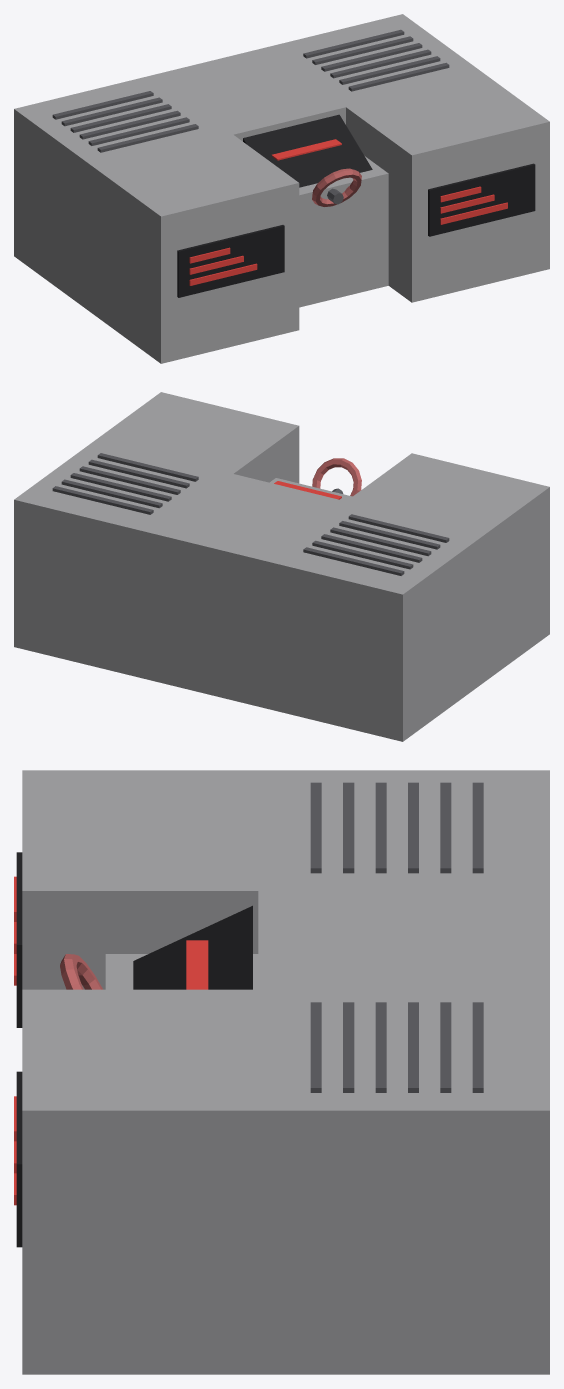
File: vge_e_pilot_console.obj
The picture shows the model from 3 angles, top to bottom: view 1: azimuth 30°, elevation 25°; view 2: azimuth 150°, elevation 25°; view 3: azimuth 270°, elevation 25°; orthographic projection. The views are drawn at different scales.
Parts seen in each view (by area): view 1: vge_pilot_console_0, vge_pilot_console_11, vge_pilot_console_22, vge_pilot_console_23, vge_pilot_console_24, vge_pilot_console_18, vge_pilot_console_7, vge_pilot_console_27, vge_pilot_console_4, vge_pilot_console_14, vge_pilot_console_15, vge_pilot_console_17 (+11 smaller); view 2: vge_pilot_console_0, vge_pilot_console_11, vge_pilot_console_22, vge_pilot_console_23, vge_pilot_console_27, vge_pilot_console_1, vge_pilot_console_5, vge_pilot_console_12, vge_pilot_console_16, vge_pilot_console_3, vge_pilot_console_4, vge_pilot_console_6 (+5 smaller); view 3: vge_pilot_console_11, vge_pilot_console_0, vge_pilot_console_23, vge_pilot_console_24, vge_pilot_console_22, vge_pilot_console_18, vge_pilot_console_7, vge_pilot_console_25, vge_pilot_console_1, vge_pilot_console_2, vge_pilot_console_3, vge_pilot_console_5 (+9 smaller).
Boxes of the visible parts, x1,y1,x2,y2 form: vge_pilot_console_0: [14, 75, 299, 363]; vge_pilot_console_11: [265, 14, 549, 302]; vge_pilot_console_22: [299, 156, 388, 307]; vge_pilot_console_23: [152, 47, 345, 141]; vge_pilot_console_24: [243, 114, 372, 187]; vge_pilot_console_18: [428, 163, 535, 236]; vge_pilot_console_7: [177, 225, 284, 297]; vge_pilot_console_27: [312, 168, 361, 206]; vge_pilot_console_4: [70, 104, 171, 132]; vge_pilot_console_14: [330, 49, 431, 78]; vge_pilot_console_15: [321, 43, 422, 71]; vge_pilot_console_17: [303, 29, 404, 58]; vge_pilot_console_0: [264, 453, 549, 741]; vge_pilot_console_11: [14, 392, 299, 680]; vge_pilot_console_22: [152, 478, 352, 707]; vge_pilot_console_23: [152, 474, 345, 595]; vge_pilot_console_27: [312, 458, 361, 496]; vge_pilot_console_1: [348, 514, 449, 542]; vge_pilot_console_5: [312, 540, 413, 569]; vge_pilot_console_12: [97, 453, 198, 481]; vge_pilot_console_16: [61, 479, 162, 508]; vge_pilot_console_3: [330, 527, 431, 556]; vge_pilot_console_4: [321, 534, 422, 562]; vge_pilot_console_6: [303, 547, 404, 575]; vge_pilot_console_11: [22, 989, 549, 1374]; vge_pilot_console_0: [22, 770, 549, 989]; vge_pilot_console_23: [258, 891, 549, 989]; vge_pilot_console_24: [133, 905, 252, 989]; vge_pilot_console_22: [105, 954, 258, 989]; vge_pilot_console_18: [16, 1071, 22, 1247]; vge_pilot_console_7: [16, 852, 22, 1027]; vge_pilot_console_25: [186, 940, 208, 989]; vge_pilot_console_1: [310, 782, 321, 873]; vge_pilot_console_2: [343, 782, 354, 873]; vge_pilot_console_3: [375, 782, 386, 873]; vge_pilot_console_5: [440, 782, 451, 873].
Size of the model in its own units: 2.9 by 1.07 by 1.93.
